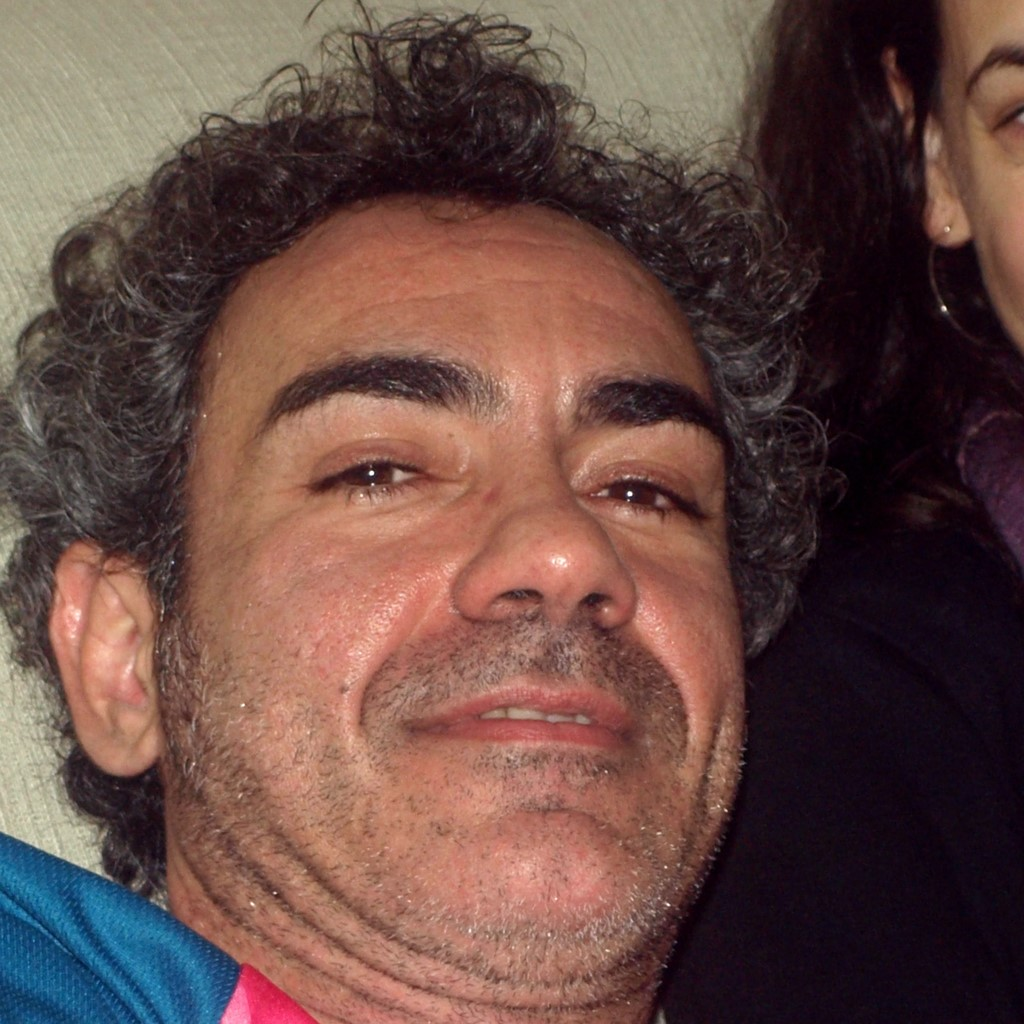sin_mascara: (148, 177, 746, 982)
